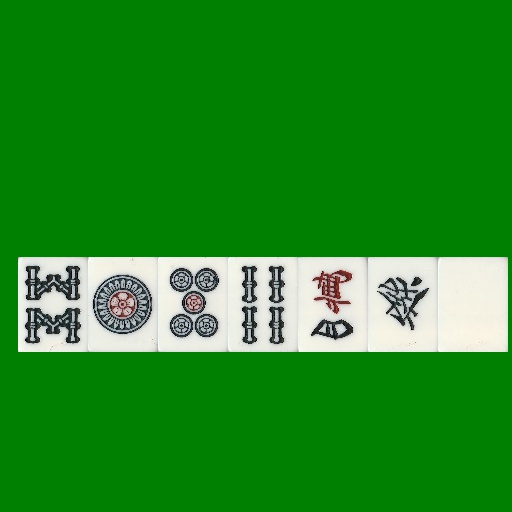1p: (88, 257, 158, 352)
4m: (298, 257, 368, 352)
4s: (228, 257, 298, 352)
5p: (158, 257, 228, 352)
8s: (18, 257, 88, 352)
hatsu: (368, 257, 438, 352)
white: (438, 257, 508, 352)
